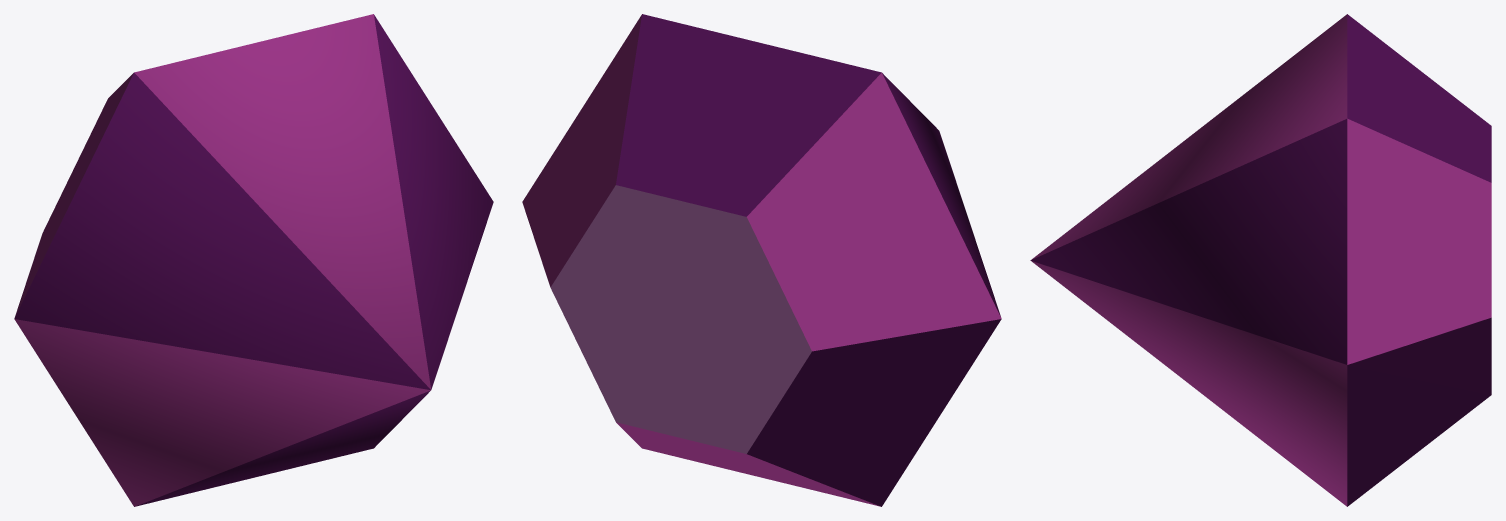
The model's file is Jewel_A.fbx.
3 views of the same model, side by side, from view 1: azimuth 30°, elevation 25°; view 2: azimuth 150°, elevation 25°; view 3: azimuth 270°, elevation 25° (orthographic). The views are drawn at different scales.
Visible parts, largest first — view 1: Jewel_A; view 2: Jewel_A; view 3: Jewel_A.
Boxes of the visible parts, <box> form: Jewel_A: <box>14,14,493,506</box>; Jewel_A: <box>522,14,1001,506</box>; Jewel_A: <box>1030,14,1491,506</box>.
Bounding box in the file's own units: 0.2503 × 0.2168 × 0.2333.
